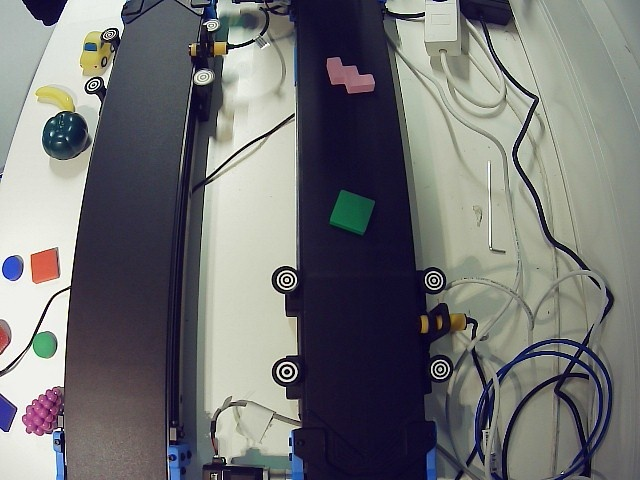Green_Square: (329, 188, 377, 236)
Unknown: (321, 55, 379, 96)
